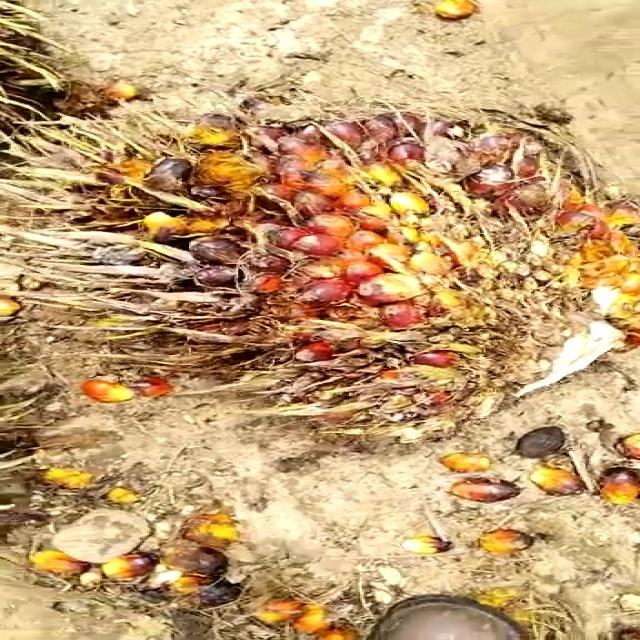palm oil: (41, 102, 640, 462)
